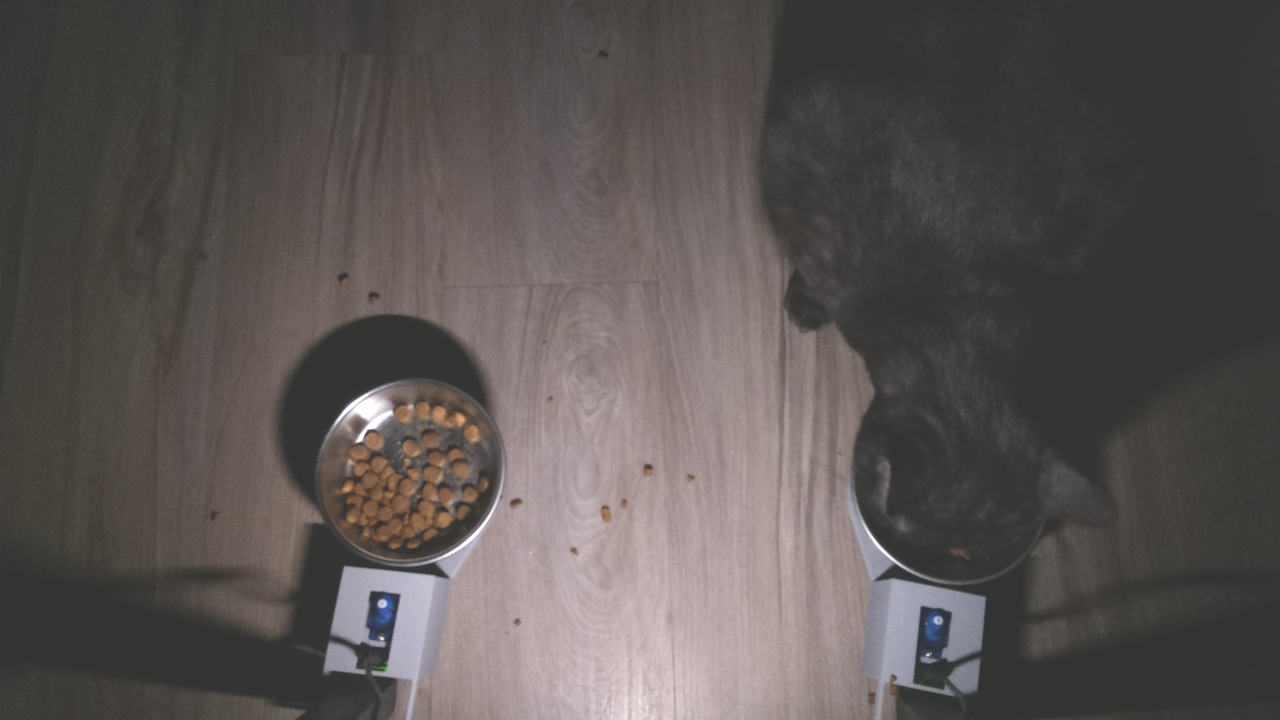open_bowl: (311, 373, 511, 570)
saki_eating: (818, 337, 1139, 593)
